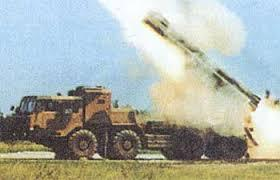MIL_SAM_TEL: (10, 11, 260, 162)
